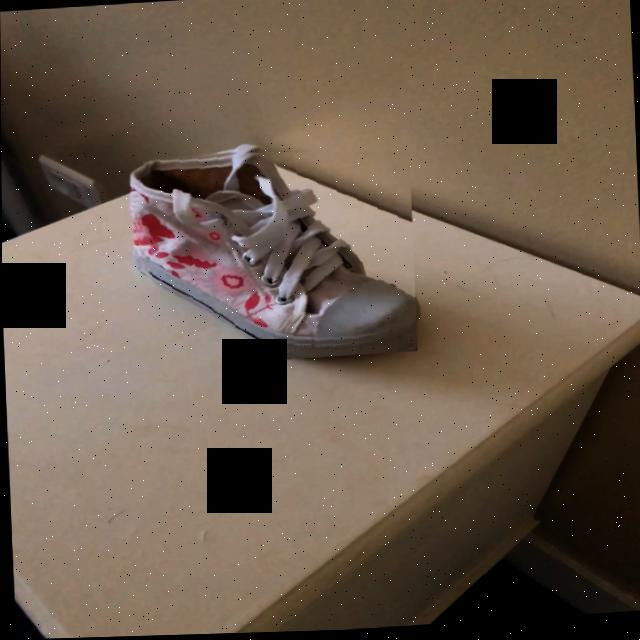shoe: (133, 152, 416, 360)
